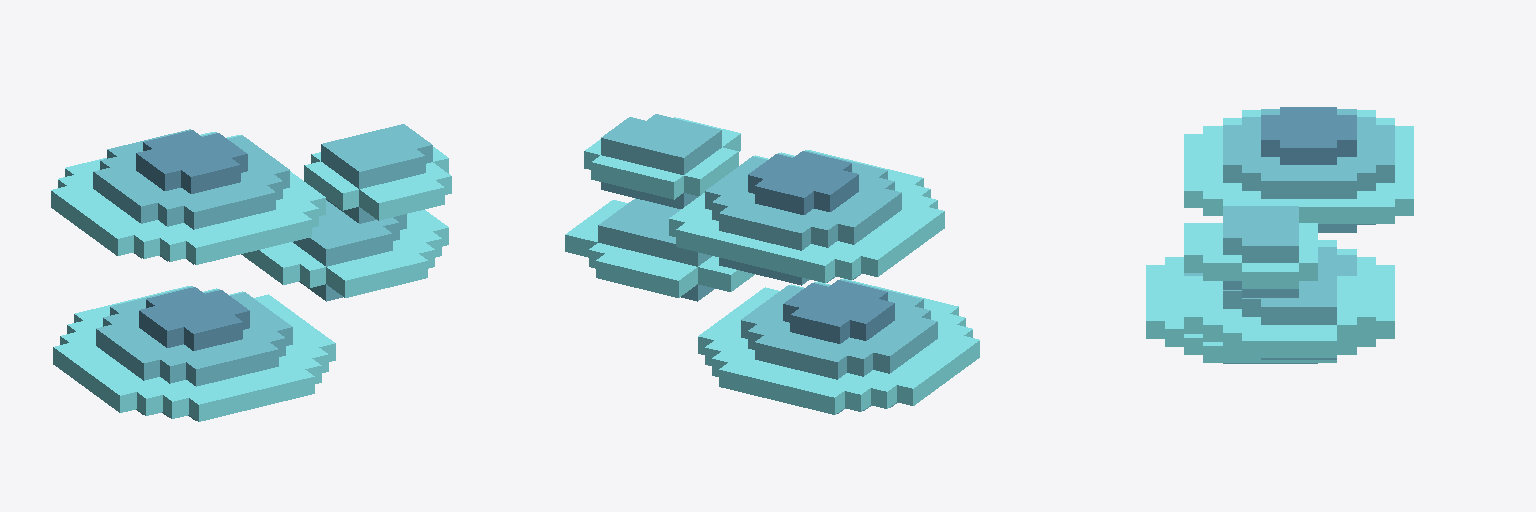
The picture shows the model from 3 angles: view 1: azimuth 30°, elevation 25°; view 2: azimuth 150°, elevation 25°; view 3: azimuth 270°, elevation 25°; orthographic projection.
Parts seen in each view (by area): view 1: Coral; view 2: Coral; view 3: Coral.
Boxes of the visible parts, <box> form: Coral: <box>51,124,451,421</box>; Coral: <box>565,114,979,414</box>; Coral: <box>1146,107,1413,363</box>.
Bounding box in the file's own units: 2.1 × 1.2 × 1.4.
1 materials, 1 textured.